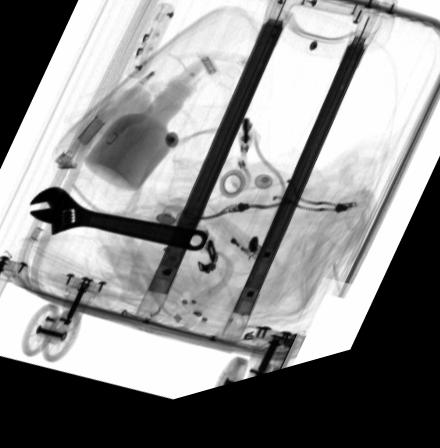Wrench: (28, 188, 208, 262)
